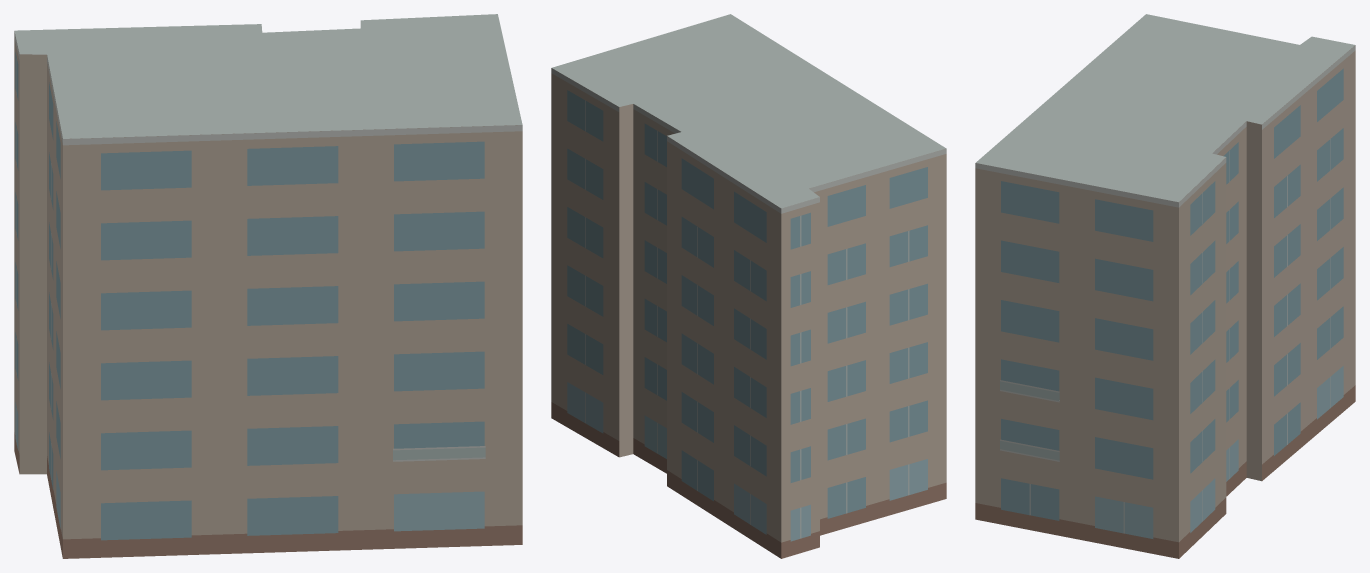
The model's file is survey-upis-32959957.glb.
3 renders of one model, left to right at view 1: azimuth 30°, elevation 25°; view 2: azimuth 150°, elevation 25°; view 3: azimuth 270°, elevation 25°, orthographic. The views are drawn at different scales.
Parts seen in each view (by area): view 1: survey-upis-32959957.tmp; view 2: survey-upis-32959957.tmp; view 3: survey-upis-32959957.tmp.
Part boxes in pixels (x1=…): survey-upis-32959957.tmp: x1=14, y1=14, x2=522, y2=558; survey-upis-32959957.tmp: x1=551, y1=14, x2=946, y2=558; survey-upis-32959957.tmp: x1=975, y1=14, x2=1355, y2=558.
Size of the model in its own units: 18.29 by 16.15 by 15.61.
